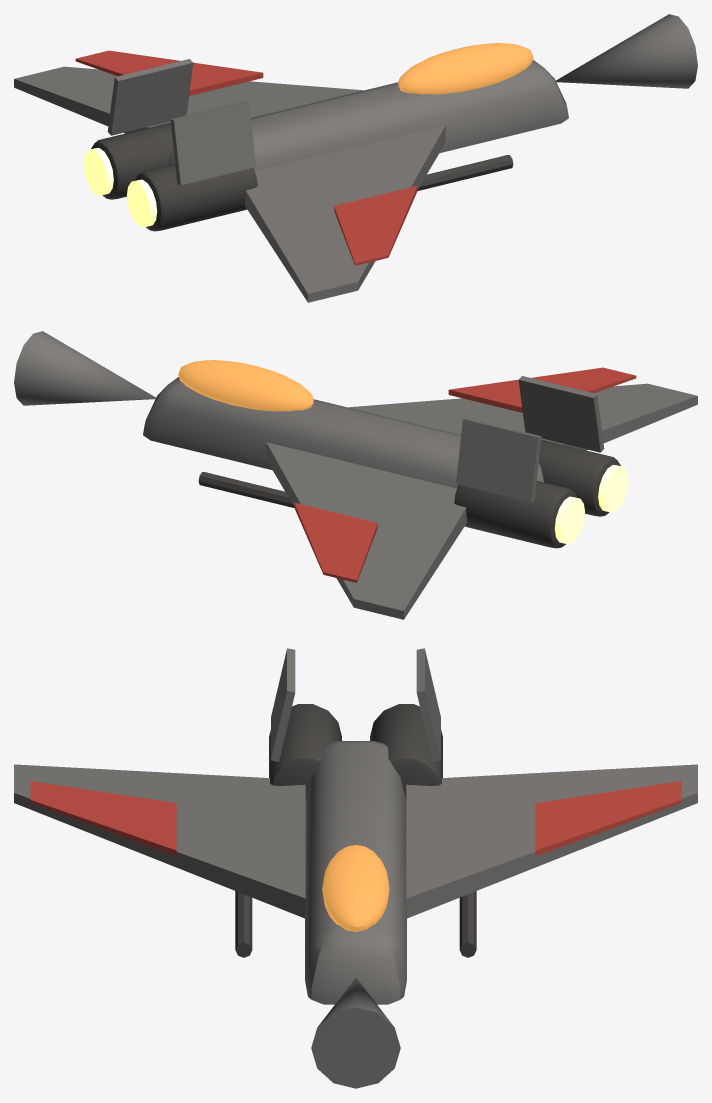
File: hum_caca.glb
3 renders of one model, top to bottom at view 1: azimuth 30°, elevation 25°; view 2: azimuth 150°, elevation 25°; view 3: azimuth 270°, elevation 25°, orthographic. The views are drawn at different scales.
Visible parts, largest first — view 1: hum_caca; view 2: hum_caca; view 3: hum_caca.
Boxes of the visible parts, bbox=[...] form: hum_caca: bbox=[14, 14, 697, 302]; hum_caca: bbox=[14, 331, 697, 619]; hum_caca: bbox=[14, 648, 697, 1088].
Bounding box in the file's own units: 1.35 × 0.27 × 1.22.
